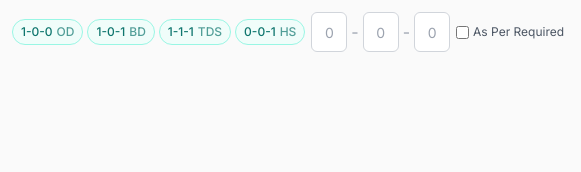
Test case: FrequencyInput › does not turn a pasted multi-digit value into an arbitrary last digit
Click the field named "Night dose" at (432, 32), box [414,12,450,52]
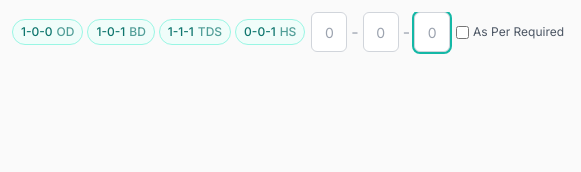
Type keys "12"
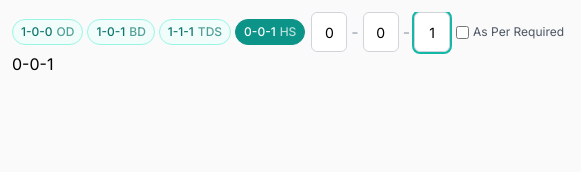
Expected: the field named "Night dose" holds "1", [414,12,450,52]
Expected: the text with test id "frequency-value" reads "0-0-1", [12,54,53,74]
